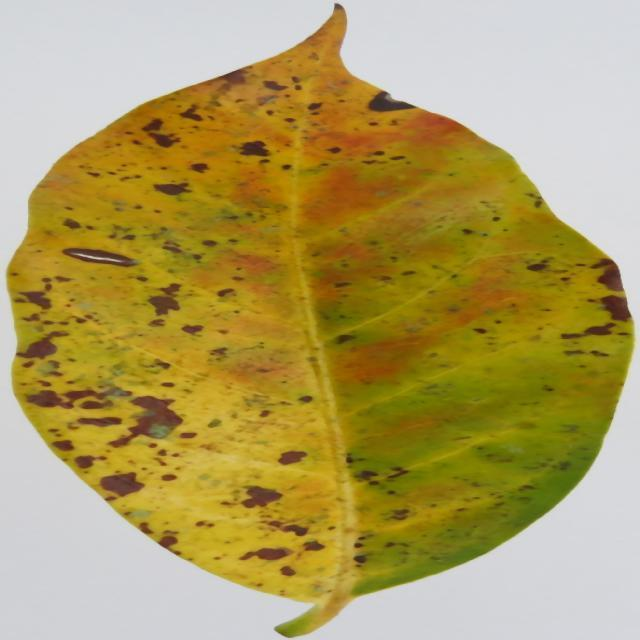DeficienciaNutricional-Fosforo: (9, 8, 632, 635)
